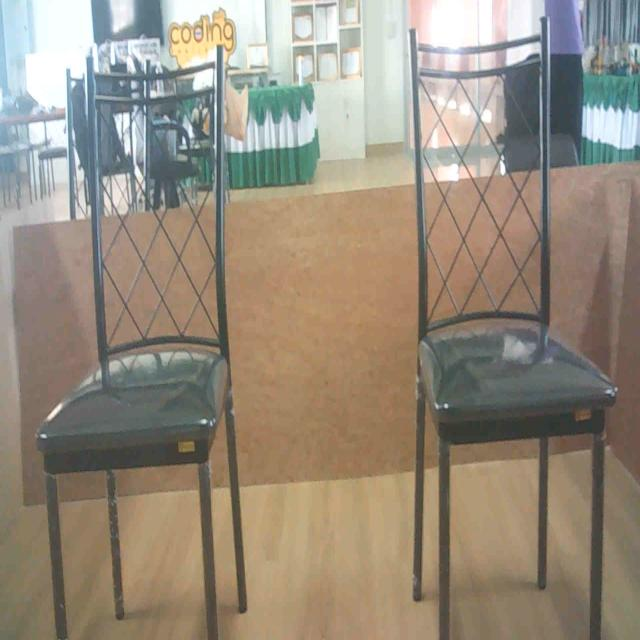empty: (31, 33, 237, 465), (397, 48, 622, 437)
